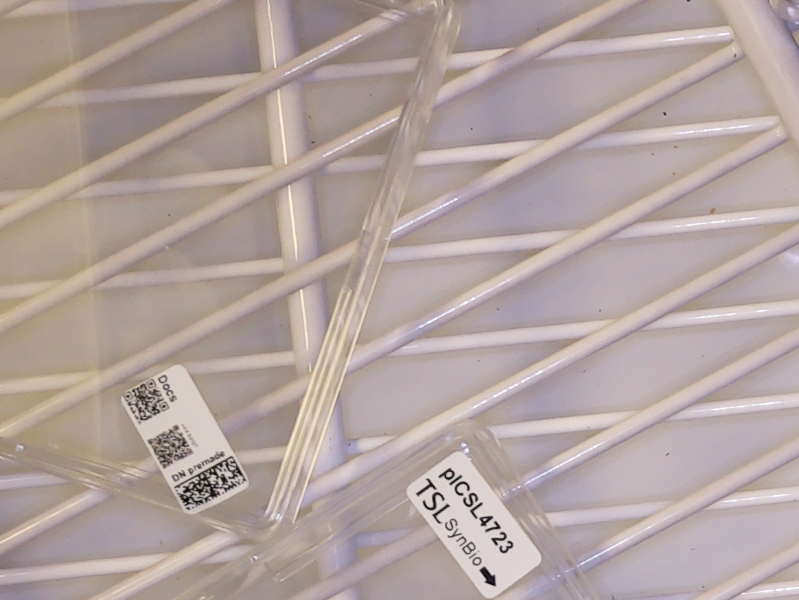plate: (1, 1, 461, 549), (184, 414, 636, 600)
